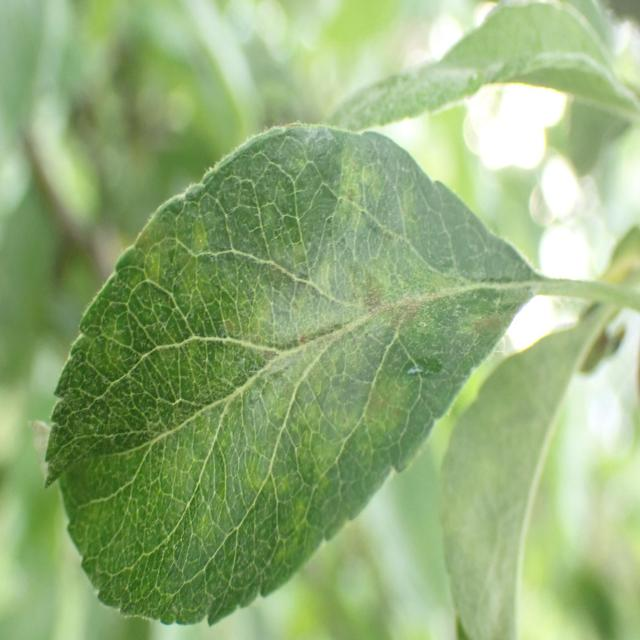scab: (55, 147, 538, 598)
